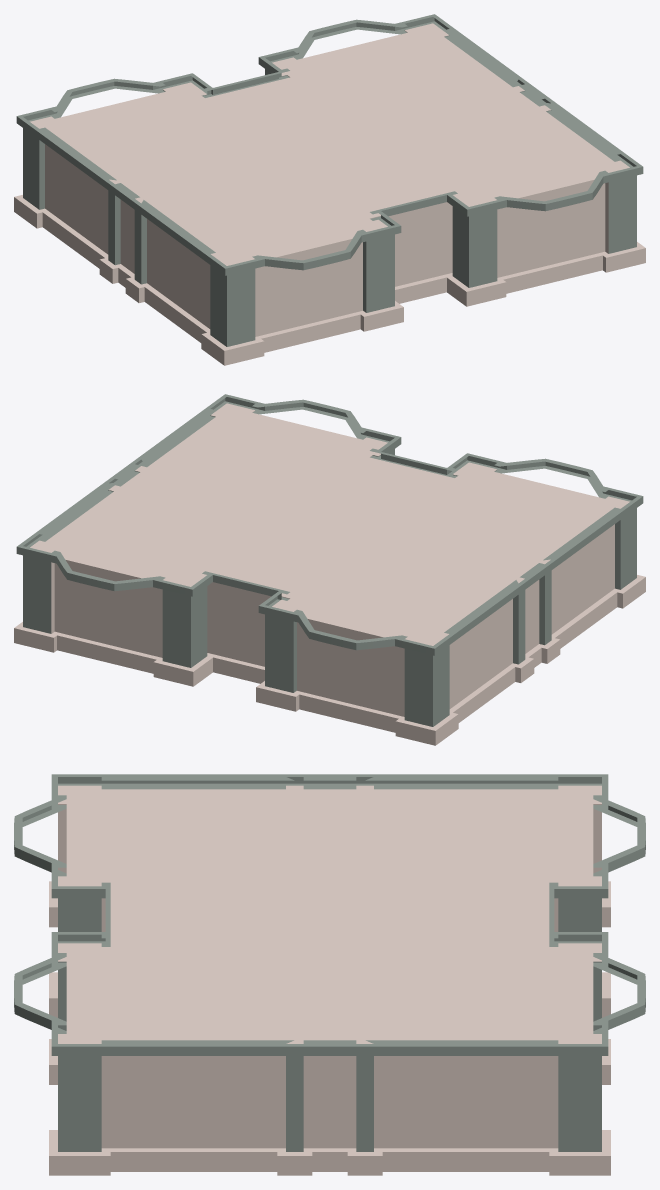
Rendered from modular2_building_baselayer.glb.
The picture shows the model from 3 angles, top to bottom: view 1: azimuth 30°, elevation 25°; view 2: azimuth 150°, elevation 25°; view 3: azimuth 270°, elevation 25°; orthographic projection. The views are drawn at different scales.
Parts seen in each view (by area): view 1: BaseFloor; view 2: BaseFloor; view 3: BaseFloor.
Boxes of the visible parts, box(x1,y1,x2,y2) form: BaseFloor: box(14, 14, 645, 365); BaseFloor: box(14, 394, 645, 745); BaseFloor: box(14, 774, 645, 1175).
Bounding box in the file's own units: 14.8 × 3.22 × 14.4.
